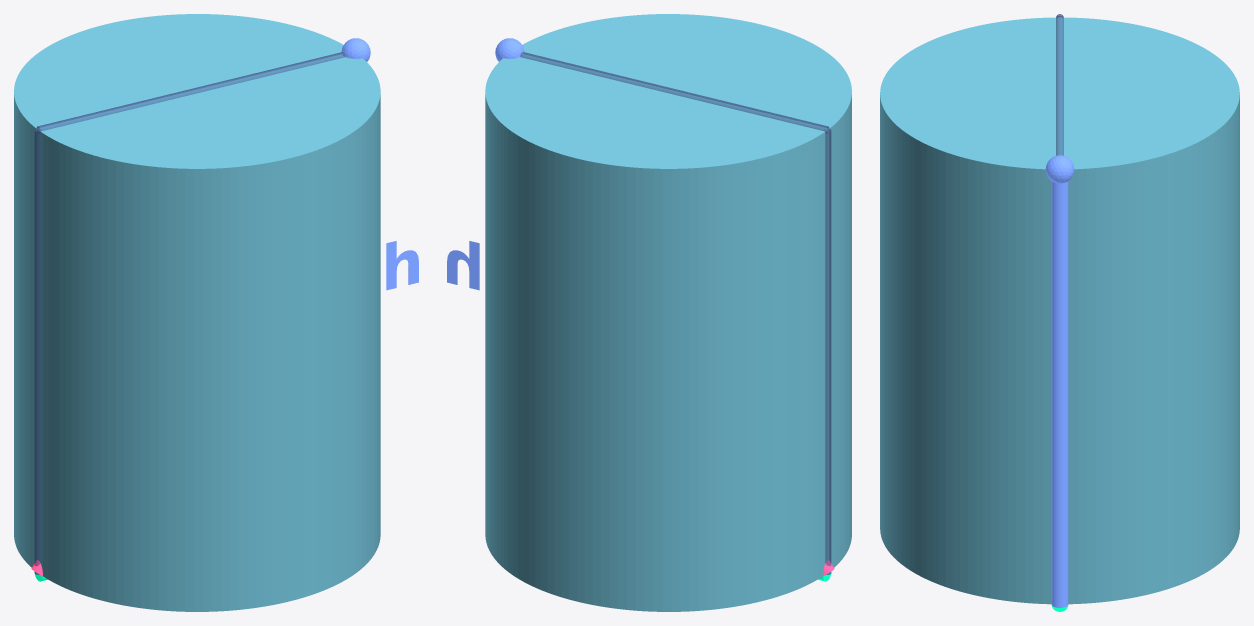
The model's file is kylindros-trigono.glb.
3 views of the same model, side by side, from view 1: azimuth 30°, elevation 25°; view 2: azimuth 150°, elevation 25°; view 3: azimuth 270°, elevation 25° (orthographic).
Visible parts, largest first — view 1: kylindros-trigono_0, kylindros-trigono_5, kylindros-trigono_6, kylindros-trigono_11; view 2: kylindros-trigono_0, kylindros-trigono_5, kylindros-trigono_6, kylindros-trigono_11; view 3: kylindros-trigono_0, kylindros-trigono_3, kylindros-trigono_6, kylindros-trigono_7.
Boxes of the visible parts, left/top/right/bottom form: kylindros-trigono_0: left=14, top=14, right=380, bottom=611; kylindros-trigono_5: left=34, top=129, right=41, bottom=574; kylindros-trigono_6: left=36, top=52, right=345, bottom=133; kylindros-trigono_11: left=386, top=241, right=418, bottom=290; kylindros-trigono_0: left=485, top=14, right=851, bottom=611; kylindros-trigono_5: left=824, top=129, right=831, bottom=574; kylindros-trigono_6: left=520, top=52, right=829, bottom=133; kylindros-trigono_11: left=447, top=241, right=479, bottom=290; kylindros-trigono_0: left=880, top=17, right=1239, bottom=604; kylindros-trigono_3: left=1051, top=181, right=1068, bottom=607; kylindros-trigono_6: left=1056, top=14, right=1063, bottom=155; kylindros-trigono_7: left=1045, top=155, right=1074, bottom=183.
Size of the model in its own units: 0.1825 by 0.2095 by 0.15.
